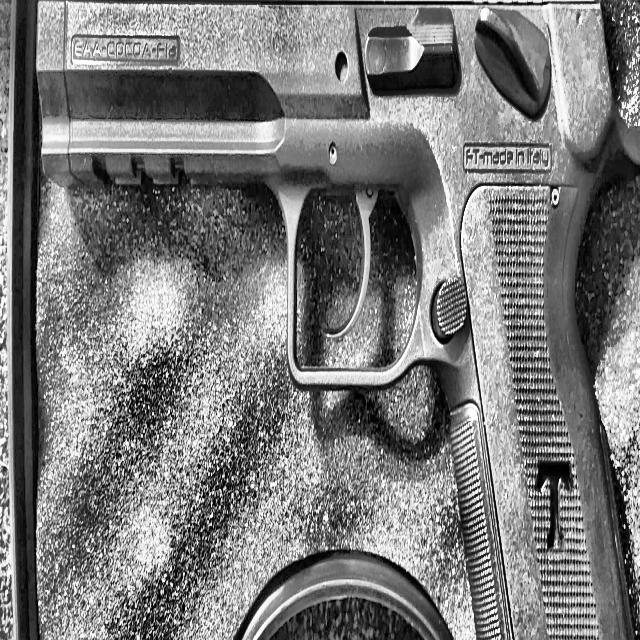Tanfoglio: (21, 0, 640, 640)
